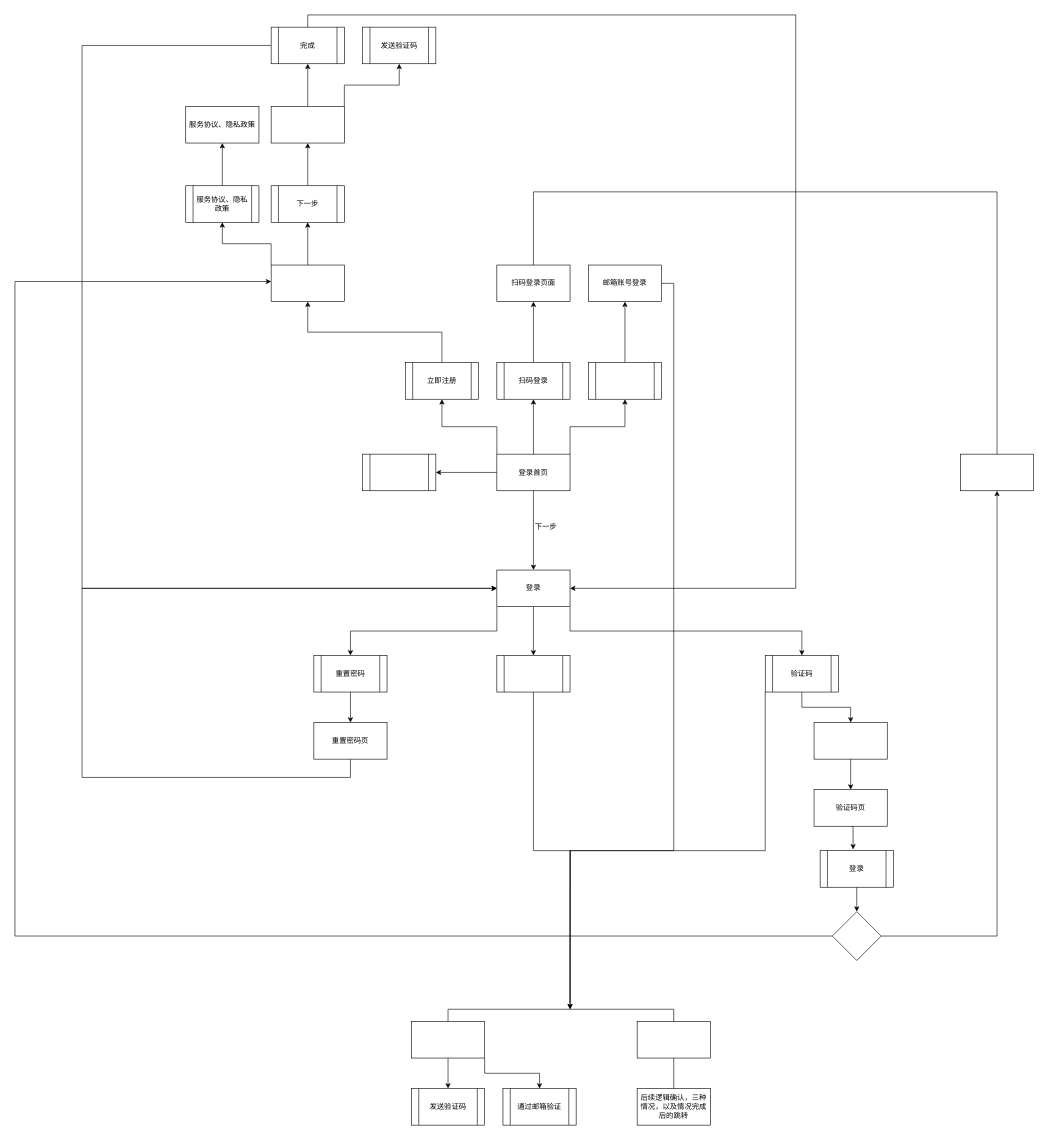
Image size: 1044x1136. Some labels were removed from this diagram. The box of each missing label's shape, as (x1, y1, x2, y2) in pixels:
vivo账号注册: (271, 106, 344, 143)
是否注册: (832, 911, 881, 960)
暂不登录 （web端不展示）: (362, 454, 436, 491)
注册首页: (271, 264, 344, 302)
登录成功: (960, 454, 1034, 491)
身份安全验证（换端逻辑触发）: (411, 1021, 485, 1058)
输入密码: (496, 655, 570, 692)
邮箱登录: (588, 362, 662, 399)
风控滑块: (813, 722, 887, 759)
黑名单高风险验证: (637, 1021, 710, 1058)
